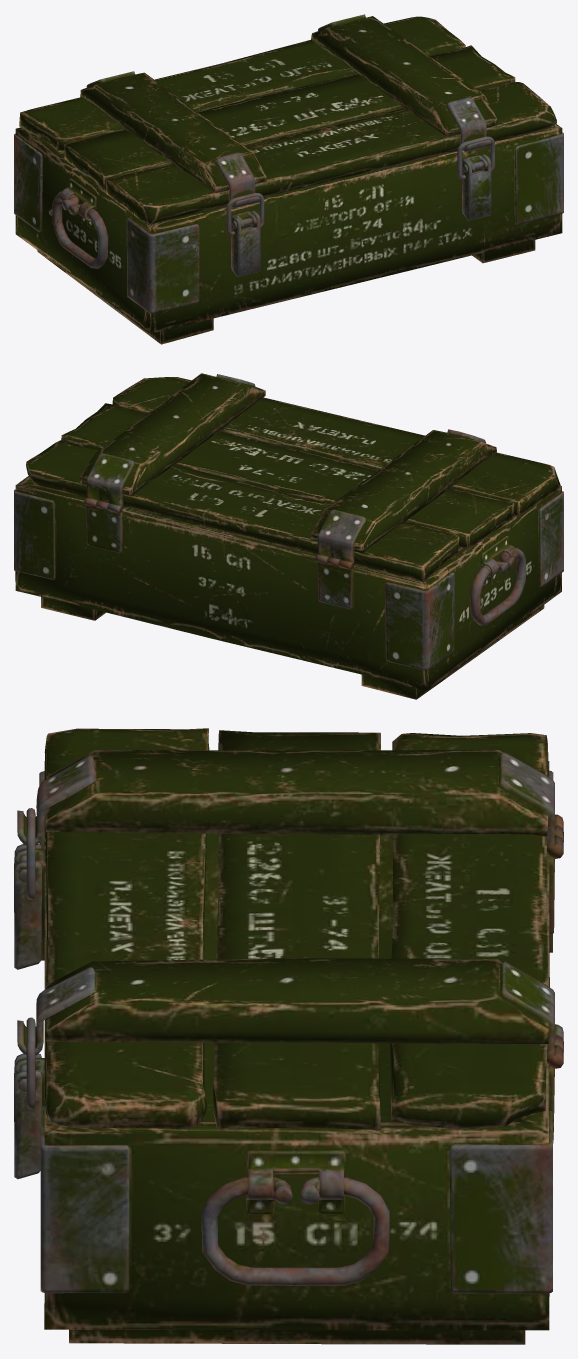
The model's file is item_ammo.glb.
3 renders of one model, top to bottom at view 1: azimuth 30°, elevation 25°; view 2: azimuth 150°, elevation 25°; view 3: azimuth 270°, elevation 25°, orthographic. The views are drawn at different scales.
Visible parts, largest first — view 1: crate; view 2: crate; view 3: crate.
Boxes of the visible parts, <box> form: crate: <box>14,14,563,344</box>; crate: <box>14,373,563,699</box>; crate: <box>14,728,563,1344</box>.
Bounding box in the file's own units: 0.55 × 0.1958 × 0.3187.
1 material, 1 textured.
